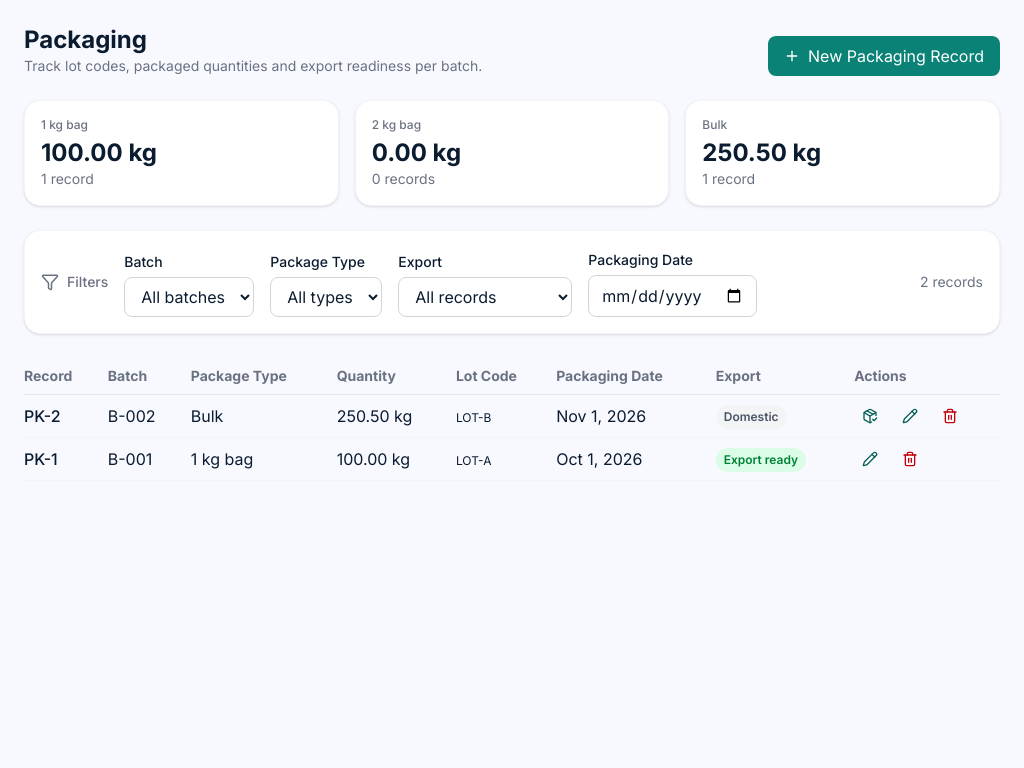
Test: PackagingRecordList › keeps the delete dialog open with the server error when the deletion fails
The width and height of the screenshot is (1024, 768).
Check: the text "PK-1" is shown, box [24,438,108,480]
Click the button named "Delete" in the row of "PK-1": (910,459) [894,443,926,475]
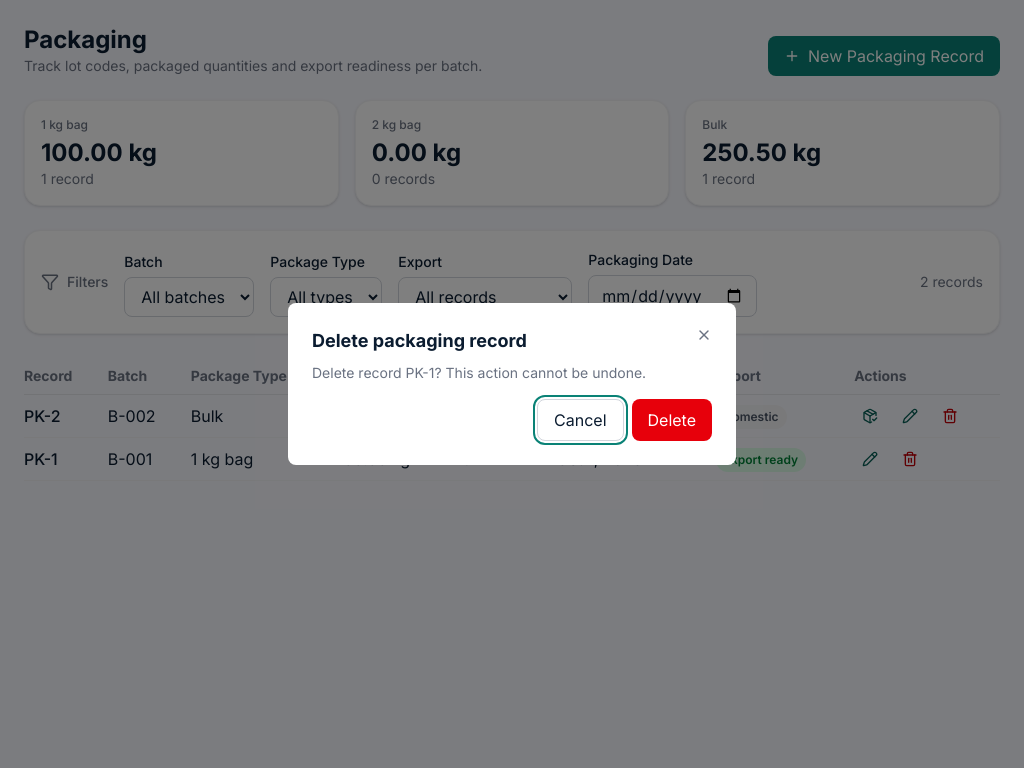
Click the button "Delete": (672,420) [632,399,712,441]
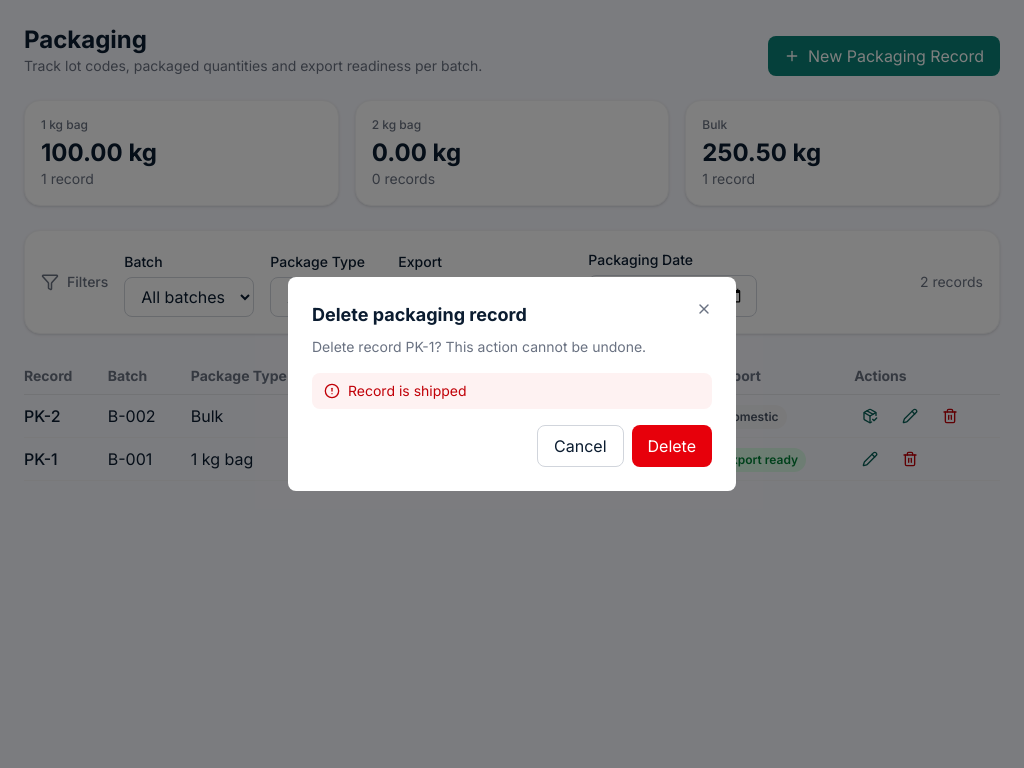
Check: the text "Record is shipped" is shown, box [348,381,467,401]
Click the button "Cancel": (580,446) [537,425,624,467]
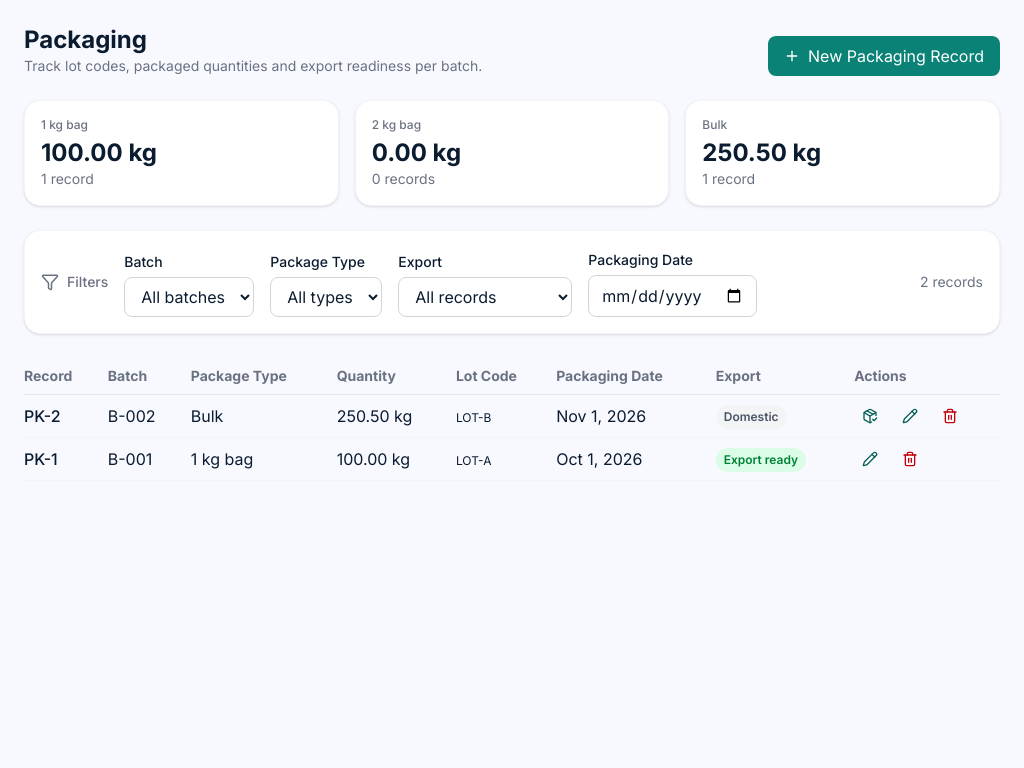
Check: the dialog is gone
